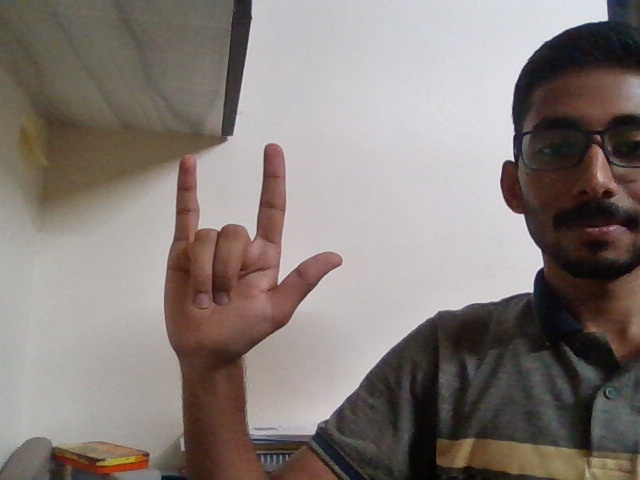Enjoy: (148, 132, 361, 389)
